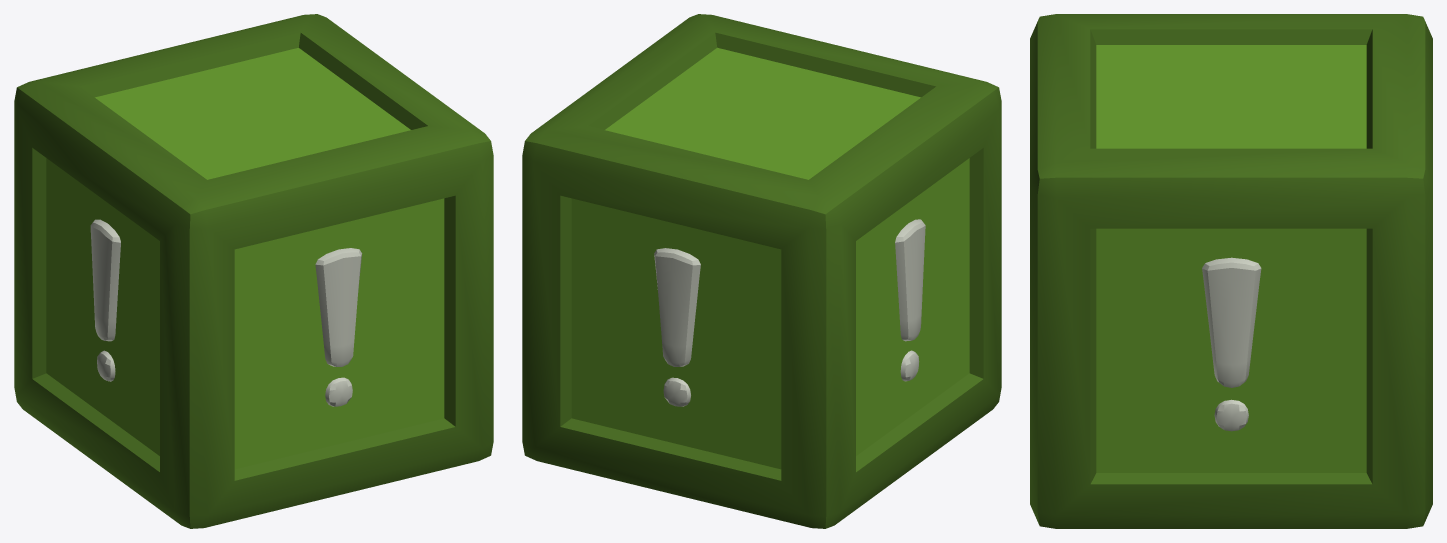
File: Cube Exclamation.glb
3 views of the same model, side by side, from view 1: azimuth 30°, elevation 25°; view 2: azimuth 150°, elevation 25°; view 3: azimuth 270°, elevation 25° (orthographic). The views are drawn at different scales.
Parts seen in each view (by area): view 1: Cube_Exclamation; view 2: Cube_Exclamation; view 3: Cube_Exclamation.
Part boxes in pixels (x1,y1,x2,y2): Cube_Exclamation: (14,14,493,528); Cube_Exclamation: (522,14,1001,528); Cube_Exclamation: (1030,14,1432,528).
Size of the model in its own units: 2.02 by 2.02 by 2.02.
